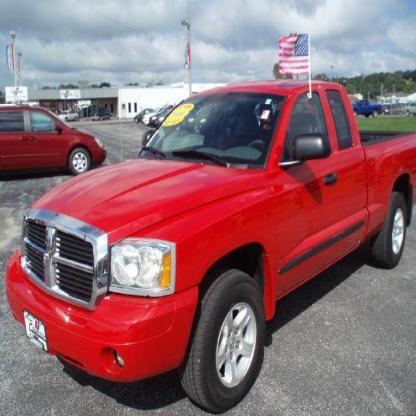Vehicle: (8, 73, 413, 415)
